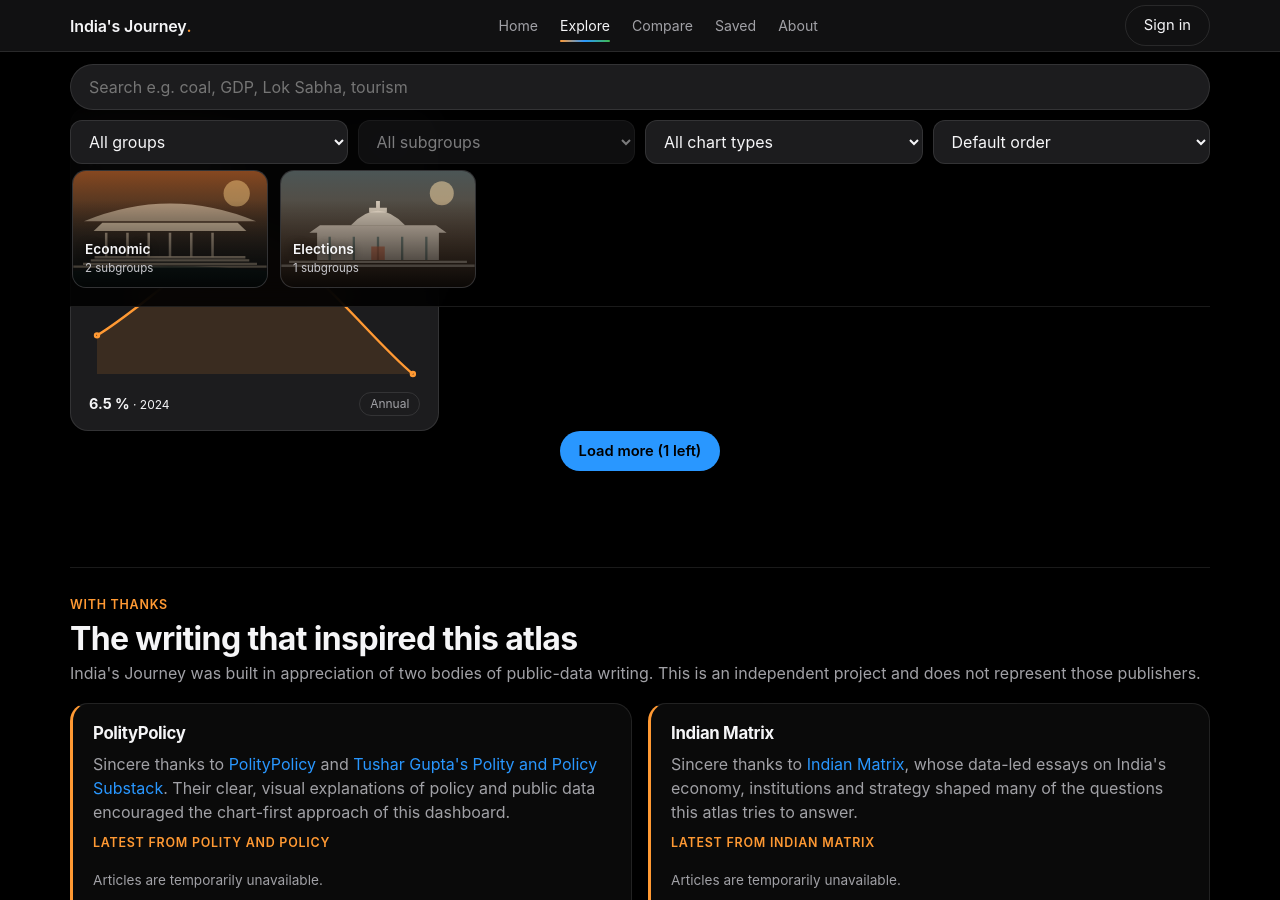
Test: Explore › appends the next page with load more
This screenshot has width=1280, height=900.
(page scrolled)
Click the button "Load more (1 left)": click(640, 451) 560,431 -> 720,471
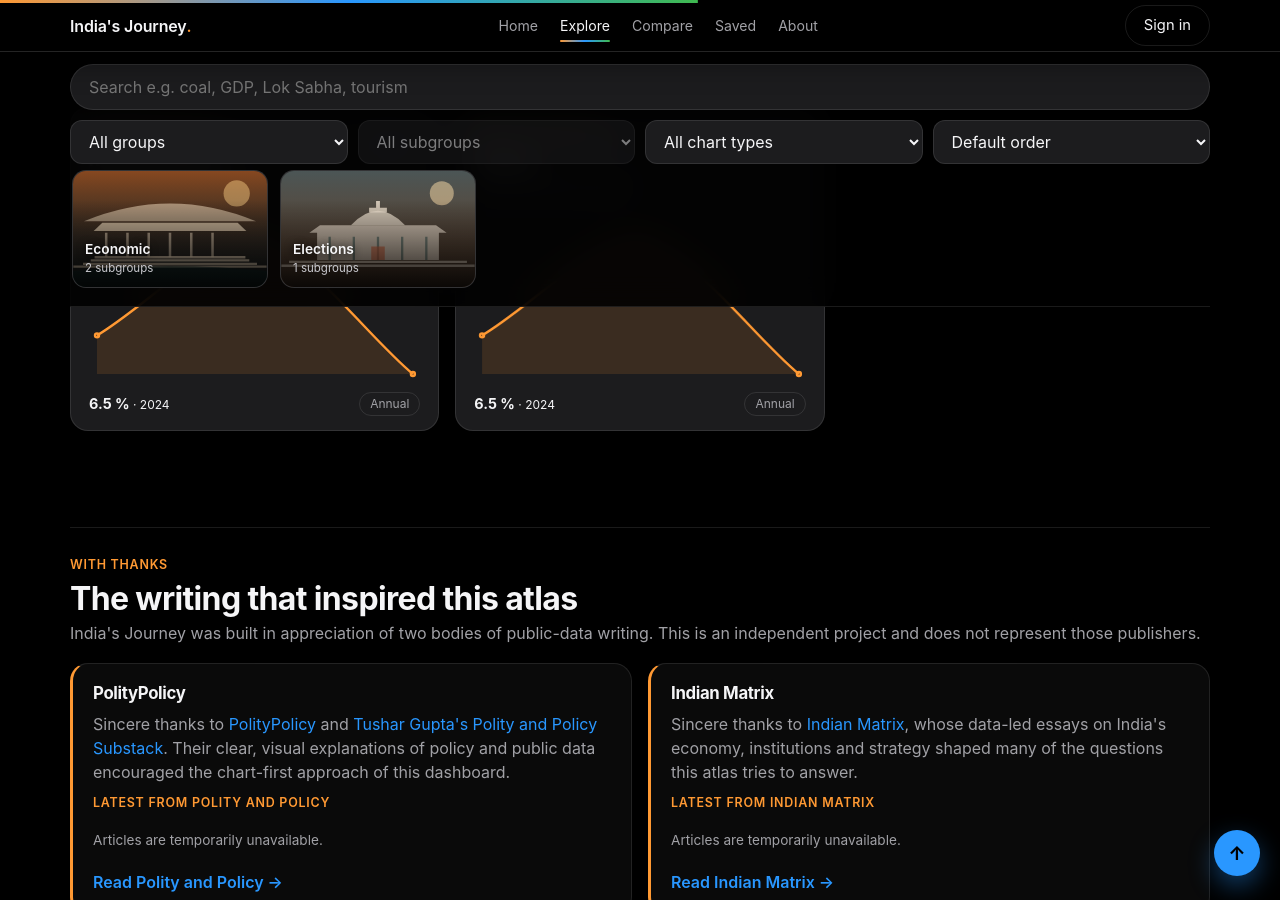
Expected: the heading "Inflation" is shown, 474,150 -> 539,170
Expected: the button "Load more" is gone
